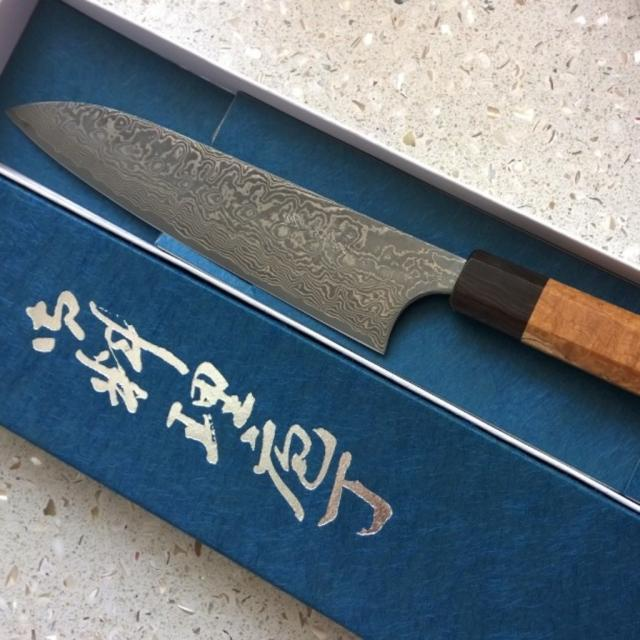Knife: (9, 101, 640, 394)
